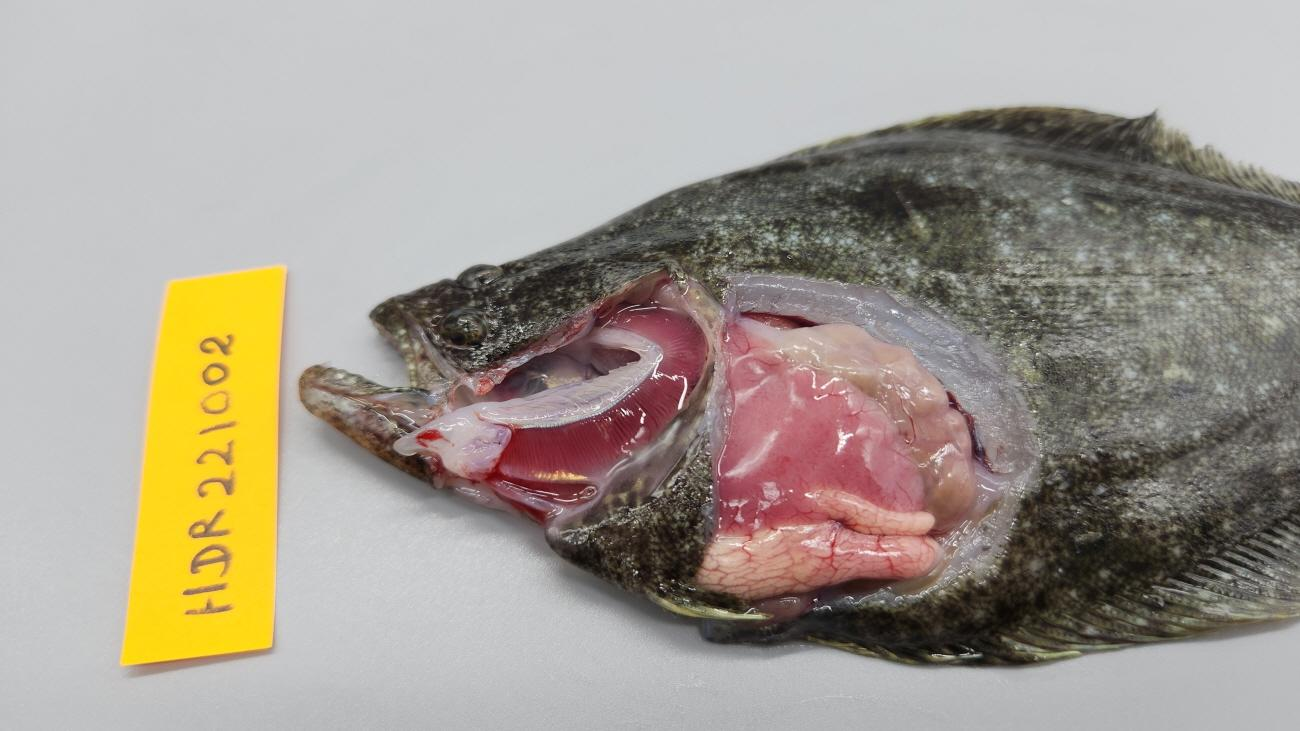POGIN: (496, 305, 706, 484)
POLIN: (715, 321, 922, 535)
